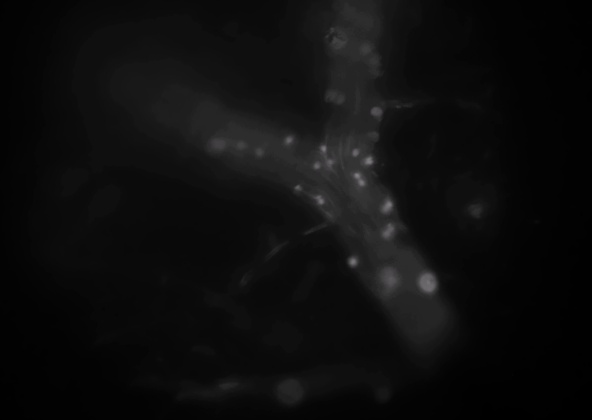cell: (421, 276, 435, 290), (371, 106, 385, 120), (349, 146, 363, 160), (362, 155, 376, 169), (315, 143, 329, 157), (309, 159, 323, 173), (325, 156, 339, 170), (324, 88, 338, 102), (350, 168, 364, 182), (333, 92, 347, 106), (354, 175, 368, 189), (346, 255, 360, 269), (382, 271, 396, 285), (378, 227, 392, 241), (382, 197, 396, 211), (384, 220, 398, 234), (379, 201, 393, 215), (313, 195, 327, 209), (291, 182, 305, 196), (254, 147, 268, 161), (212, 139, 226, 153), (360, 42, 374, 56), (367, 54, 381, 68), (329, 37, 343, 51), (367, 128, 381, 142), (282, 133, 296, 147), (233, 138, 247, 152)
